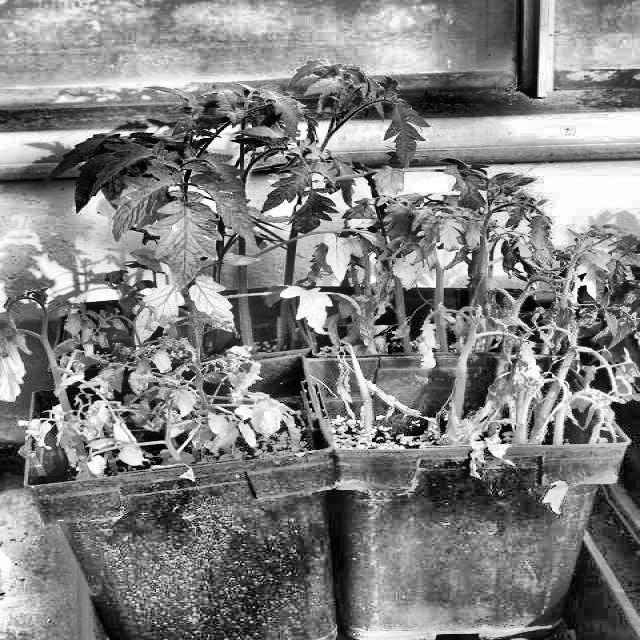plants: (9, 263, 305, 477), (440, 226, 640, 492), (309, 123, 439, 339)
